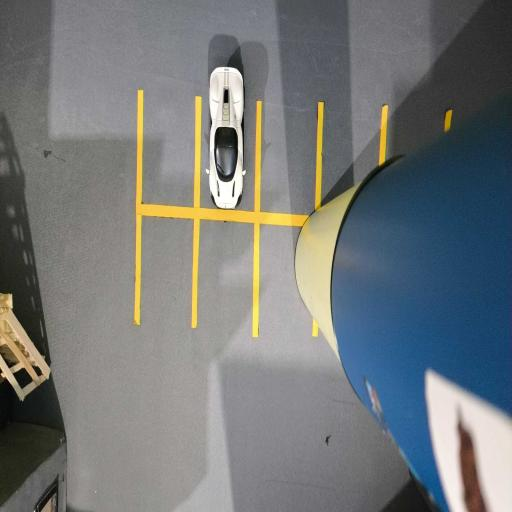toy_car: (0, 0, 511, 511), (206, 67, 245, 208)
